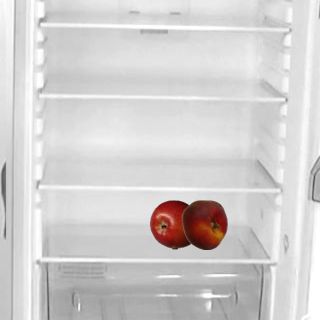Apple Braeburn: (149, 199, 199, 249)
Nectarine Flat: (179, 199, 229, 249)
